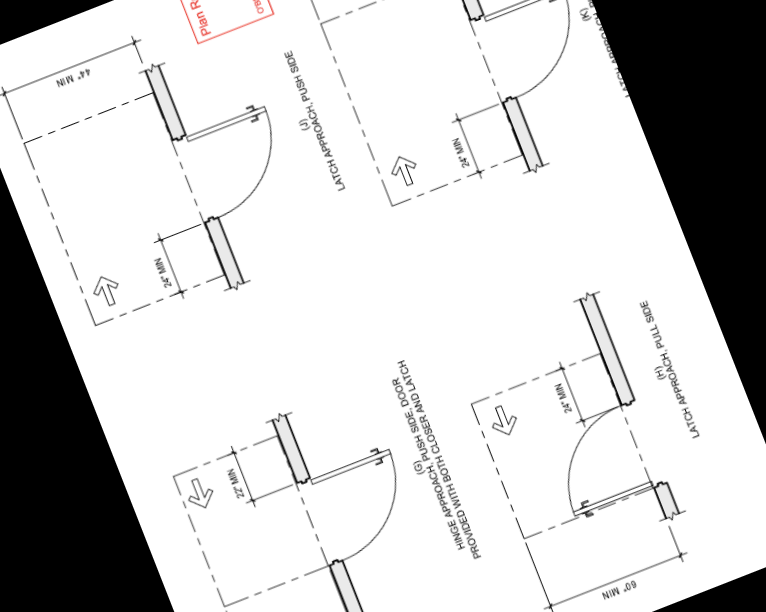door: (169, 98, 302, 228), (298, 437, 425, 567), (539, 400, 662, 522), (466, 0, 598, 105)
